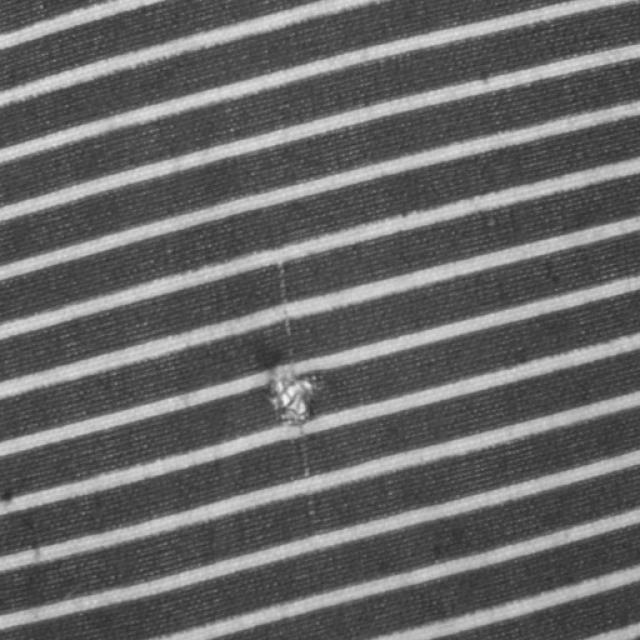Hole-Defect: (263, 251, 321, 522)
